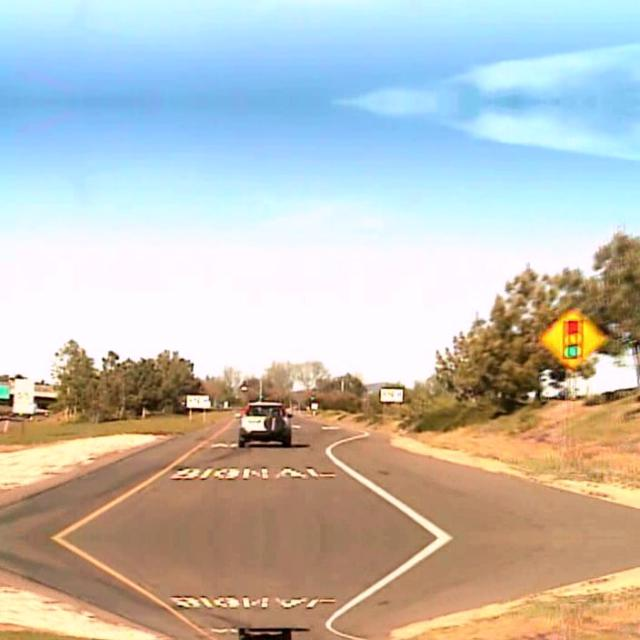signalAhead: (538, 306, 606, 366)
